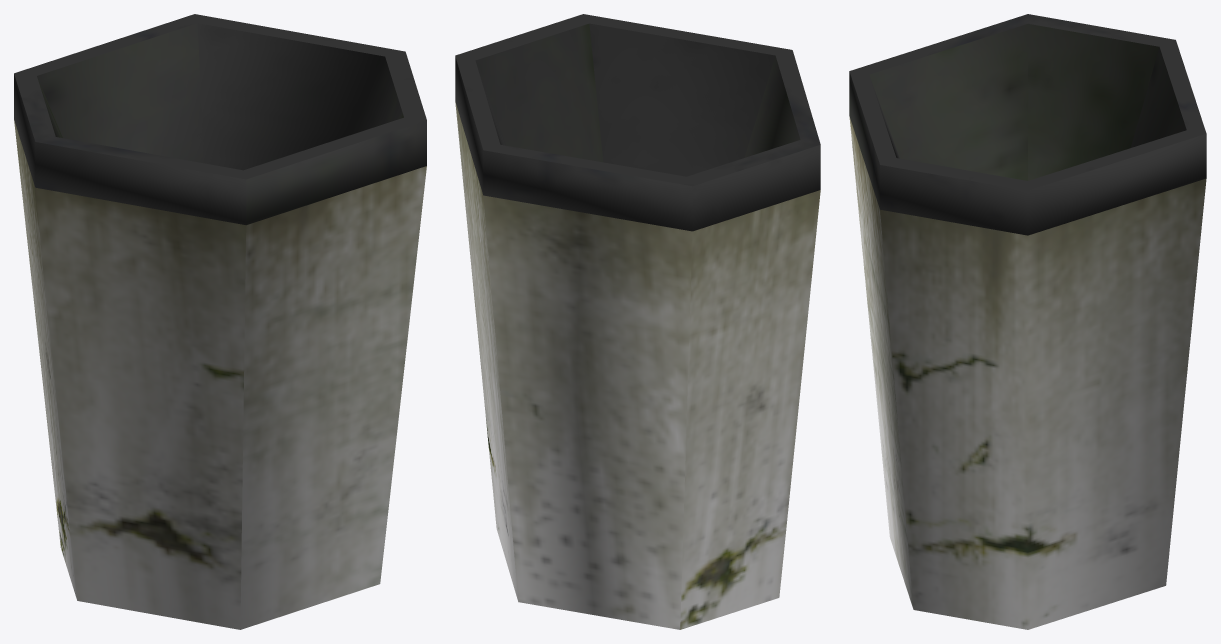
File: bin_empty.fbx
3 views of the same model, side by side, from view 1: azimuth 30°, elevation 25°; view 2: azimuth 150°, elevation 25°; view 3: azimuth 270°, elevation 25° (orthographic). The views are drawn at different scales.
Visible parts, largest first — view 1: bin_empty; view 2: bin_empty; view 3: bin_empty.
Boxes of the visible parts, <box> form: bin_empty: <box>14,14,426,629</box>; bin_empty: <box>455,14,820,629</box>; bin_empty: <box>849,14,1206,629</box>.
Size of the model in its own units: 0.2406 by 0.2913 by 0.2054.
